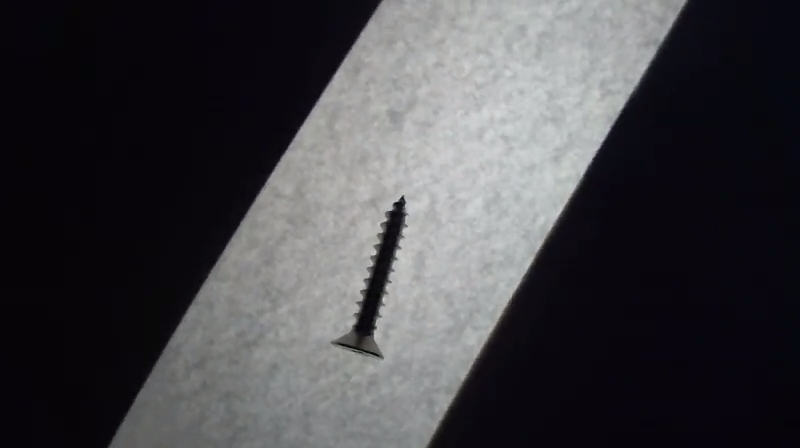S001: (327, 189, 416, 366)
